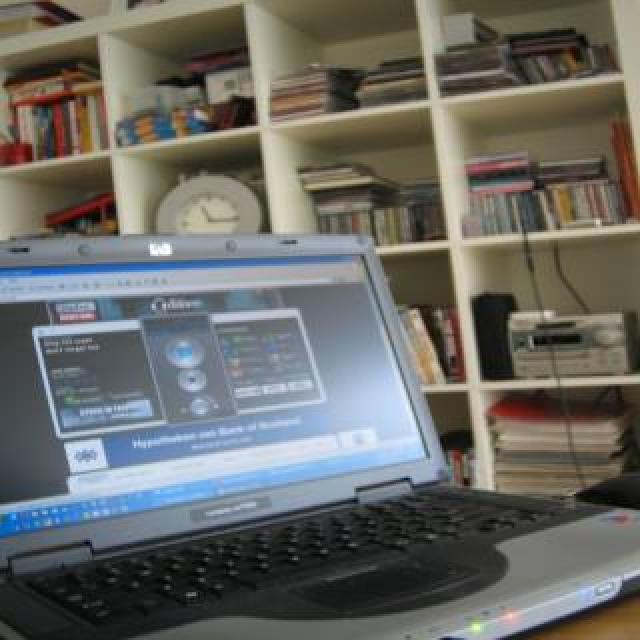laptop_computer: (0, 206, 630, 640)
